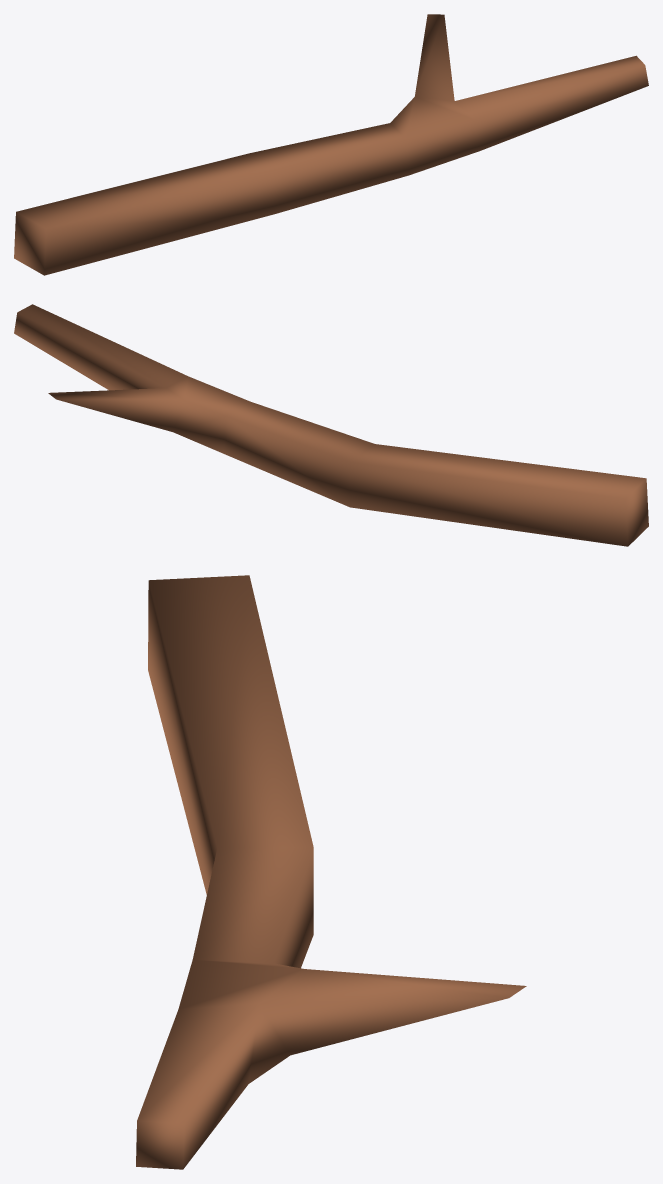
Rendered from Stick_Brown_2.fbx.
The picture shows the model from 3 angles, top to bottom: view 1: azimuth 30°, elevation 25°; view 2: azimuth 150°, elevation 25°; view 3: azimuth 270°, elevation 25°; orthographic projection. The views are drawn at different scales.
Parts seen in each view (by area): view 1: Stick_Brown_2; view 2: Stick_Brown_2; view 3: Stick_Brown_2.
Part boxes in pixels (<box>): Stick_Brown_2: <box>14,14,648,275</box>; Stick_Brown_2: <box>14,304,648,546</box>; Stick_Brown_2: <box>136,575,526,1169</box>.
Size of the model in its own units: 181 by 24.72 by 50.3.
